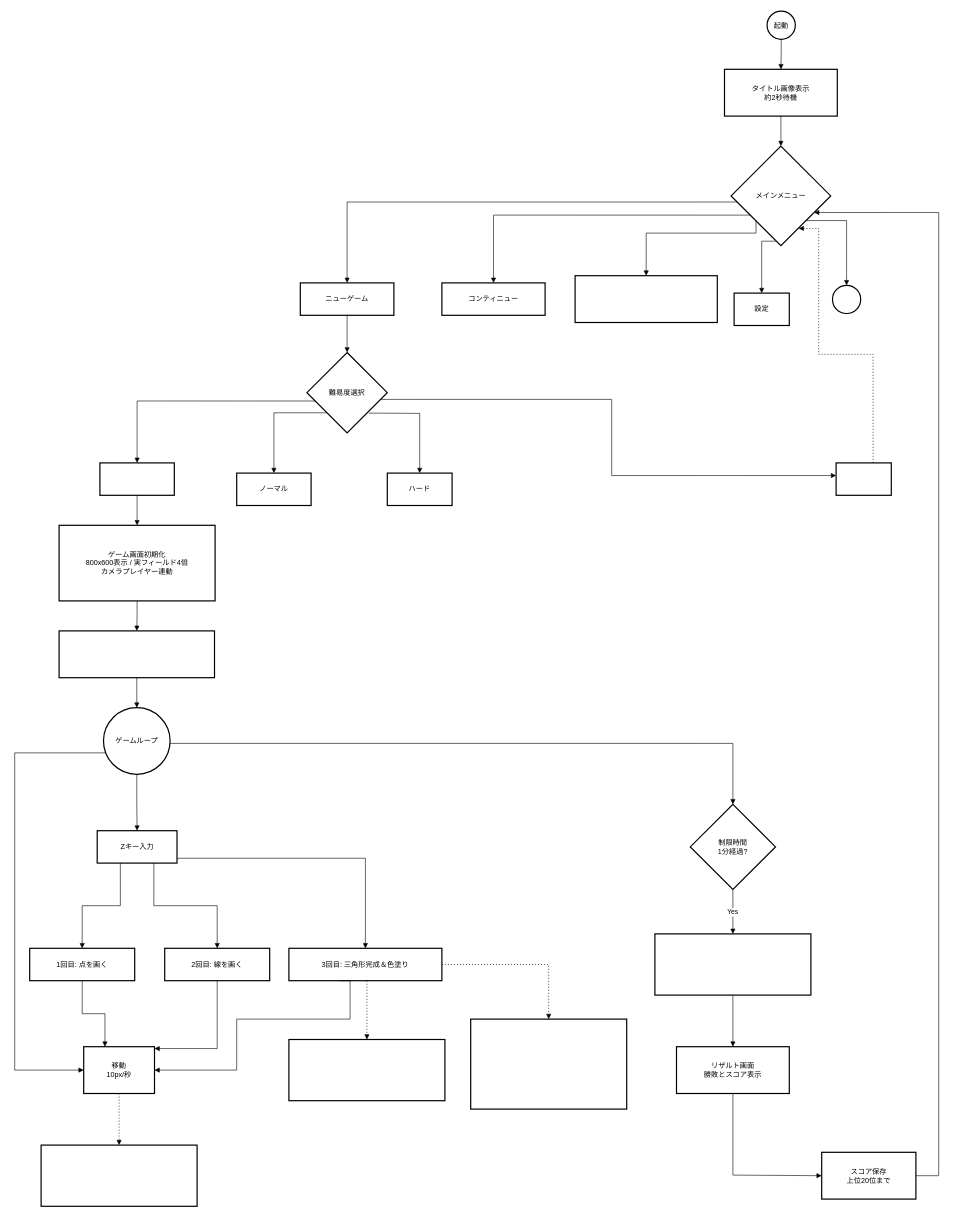
This 954x1217 diagram has some shape labels left out. The centre of each missing label's shape, as x and y in pixels:
イージー: (x=137, y=479)
スコア 上位20位まで保存・表示: (x=646, y=299)
スコア計算 (自分/全体) × (自分/両者) × 10000: (x=732, y=964)
スポーン プレイヤー: 左上 / 敵: 右下: (x=136, y=654)
上書き 相手の三角形上で自色上書き: (x=366, y=1070)
囲い込みスタン 相手が中にいる場合スポーン転移＆3秒停止 相手の作成途中の点/線は撤去: (x=548, y=1063)
妨害 相手に囲まれると途中の点/線がすべて撤去: (x=118, y=1175)
戻る: (x=863, y=479)
終了: (x=846, y=299)
